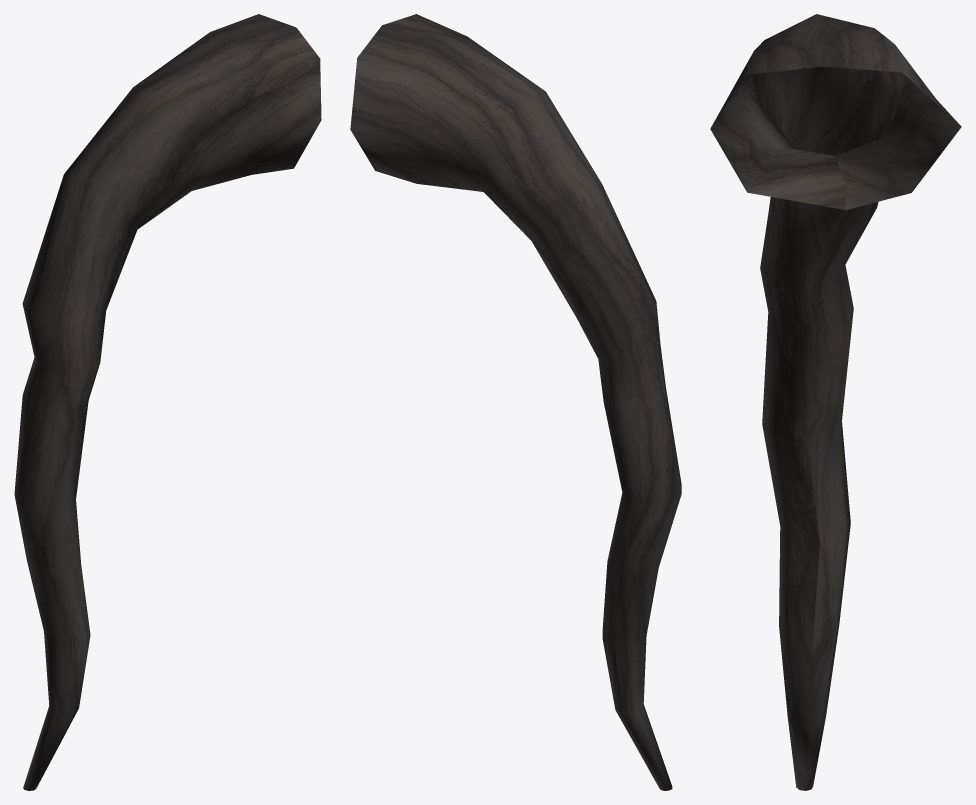
The model's file is Wurzel_02.fbx.
3 views of the same model, side by side, from view 1: azimuth 30°, elevation 25°; view 2: azimuth 150°, elevation 25°; view 3: azimuth 270°, elevation 25° (orthographic). The views are drawn at different scales.
Visible parts, largest first — view 1: Wurzel_02_LOD0; view 2: Wurzel_02_LOD0; view 3: Wurzel_02_LOD0.
Part boxes in pixels (bbox=[...]): Wurzel_02_LOD0: bbox=[14, 14, 321, 790]; Wurzel_02_LOD0: bbox=[350, 14, 681, 790]; Wurzel_02_LOD0: bbox=[710, 14, 961, 790].
Bounding box in the file's own units: 4.12 × 9.51 × 2.43.
